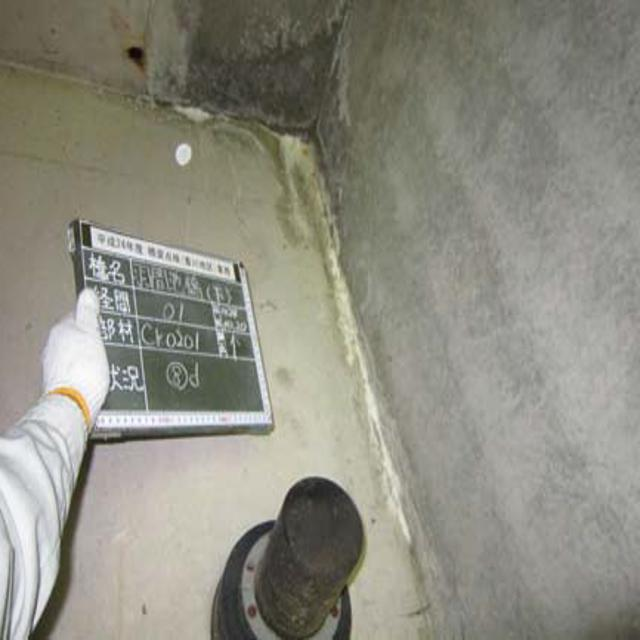freelime: (250, 104, 429, 526)
